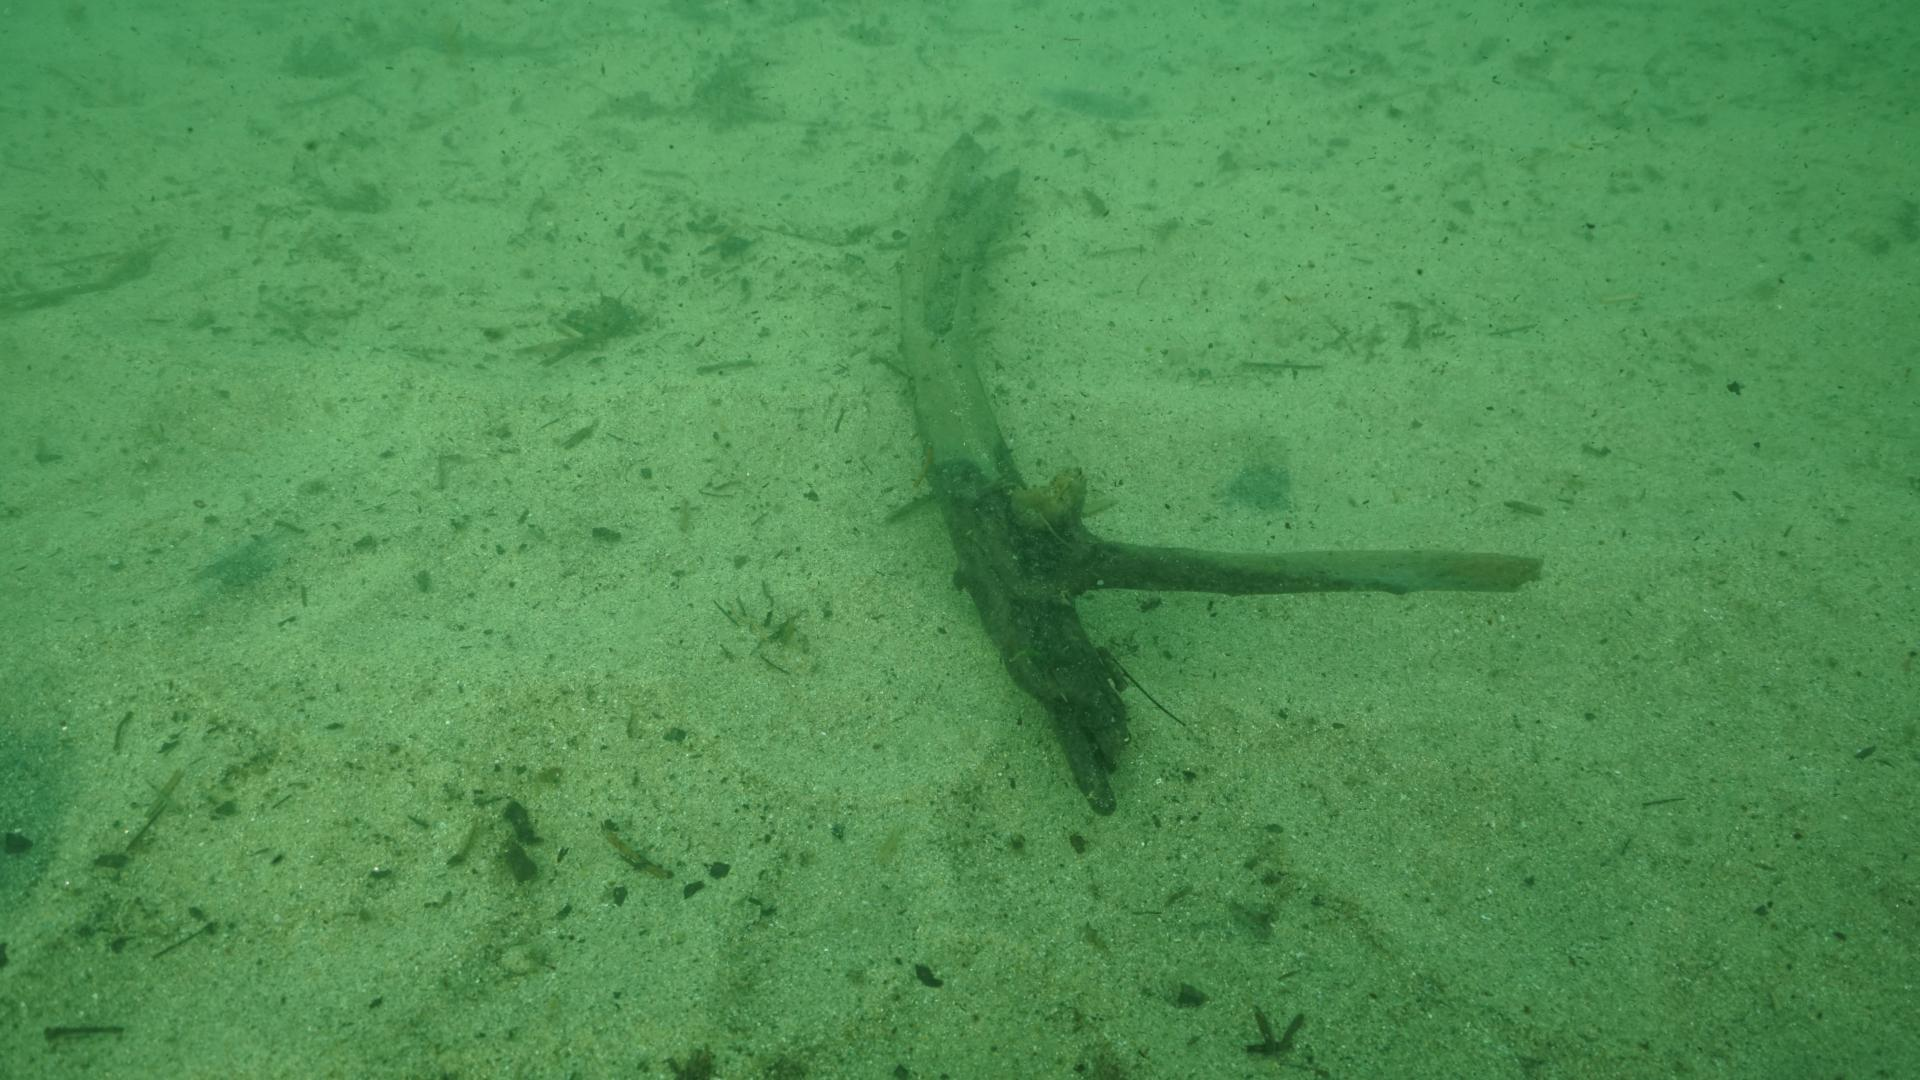wood: (895, 132, 1544, 815)
